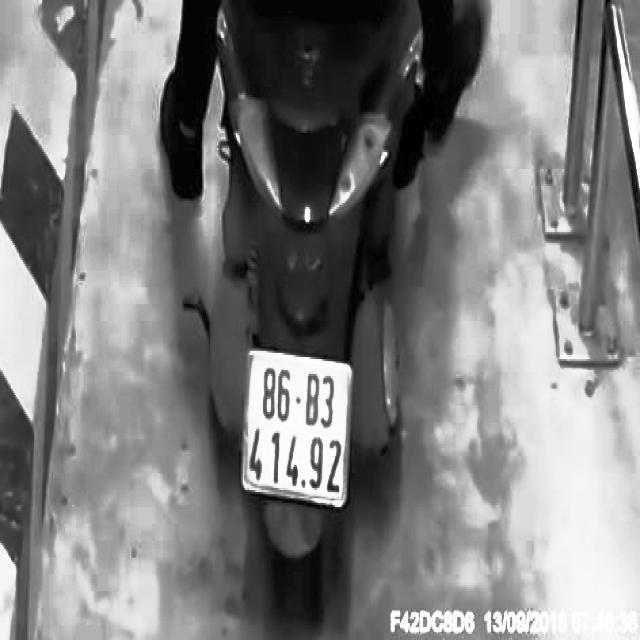license_plate: (235, 339, 378, 527)
